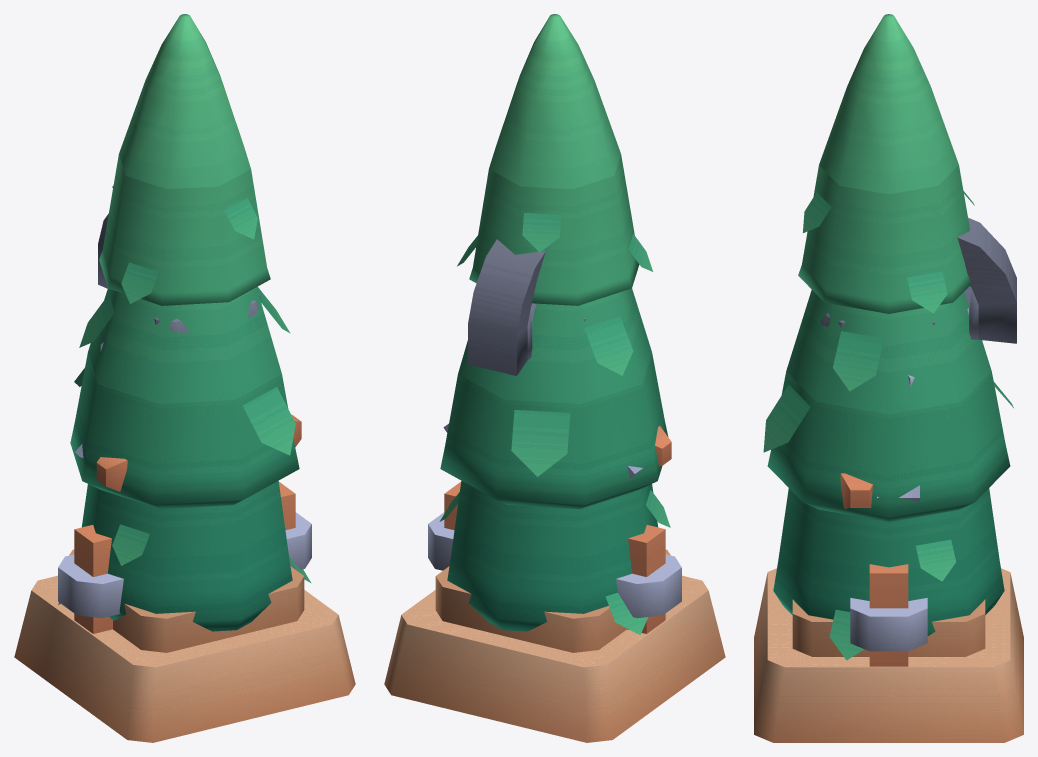
Rendered from arena.glb.
3 renders of one model, left to right at view 1: azimuth 30°, elevation 25°; view 2: azimuth 150°, elevation 25°; view 3: azimuth 270°, elevation 25°, orthographic. The views are drawn at different scales.
Visible parts, largest first — view 1: tree, statue, weapon-rack, banner; view 2: tree, statue, weapon-rack; view 3: tree, statue, weapon-rack, banner.
Boxes of the visible parts, left/top/right/bottom form: tree: left=58, top=14, right=311, bottom=631; statue: left=14, top=214, right=355, bottom=742; weapon-rack: left=58, top=481, right=311, bottom=633; banner: left=96, top=414, right=301, bottom=491; tree: left=439, top=14, right=670, bottom=634; statue: left=384, top=239, right=725, bottom=742; weapon-rack: left=428, top=481, right=681, bottom=633; tree: left=763, top=14, right=1013, bottom=660; statue: left=754, top=217, right=1023, bottom=742; weapon-rack: left=850, top=564, right=927, bottom=666; banner: left=840, top=473, right=872, bottom=508.
Size of the model in its own units: 0.72 by 1.92 by 0.7.
Materials: 1 (1 with a texture image).
